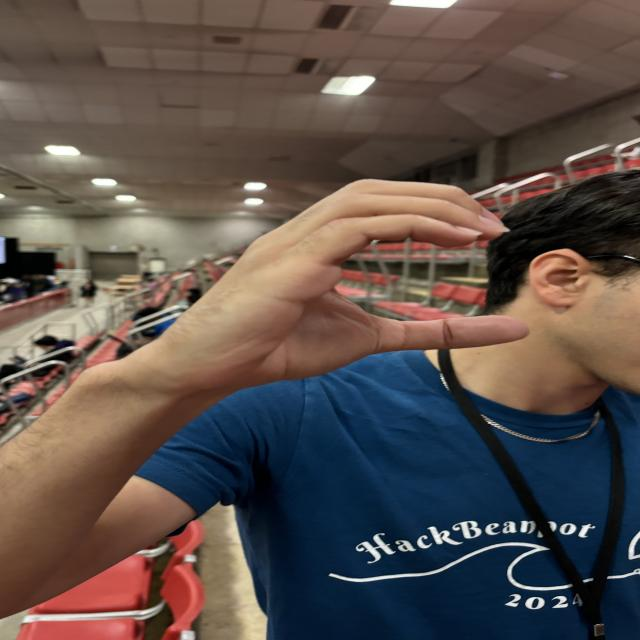C: (259, 174, 537, 361)
